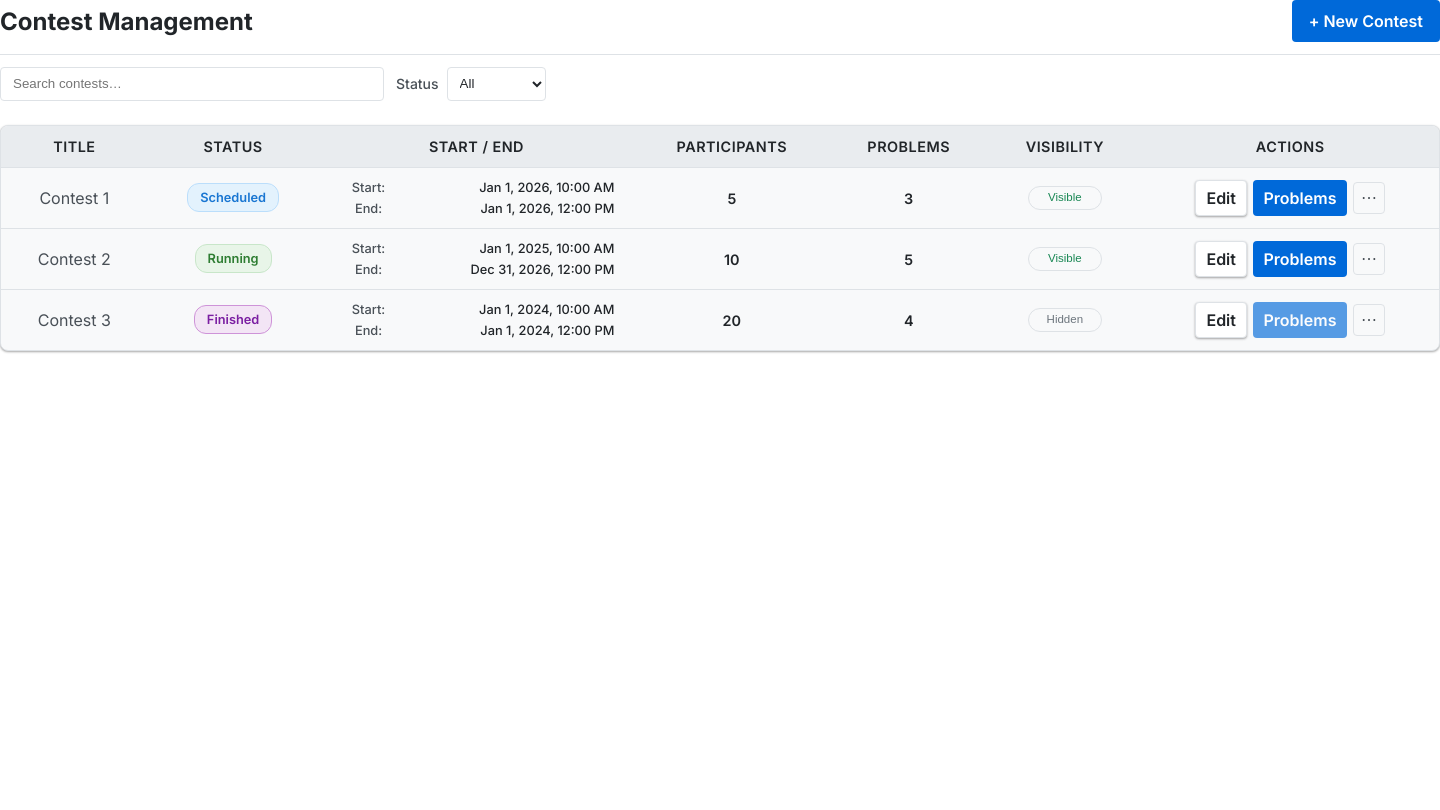
Scenario: ContestManagement Component › opens ContestModal for creating new contest
What coordinates should you click on to do the following:
click the button "+ New Contest"
I would click on:
 (1366, 21)
Its box is [1292,0,1439,42].
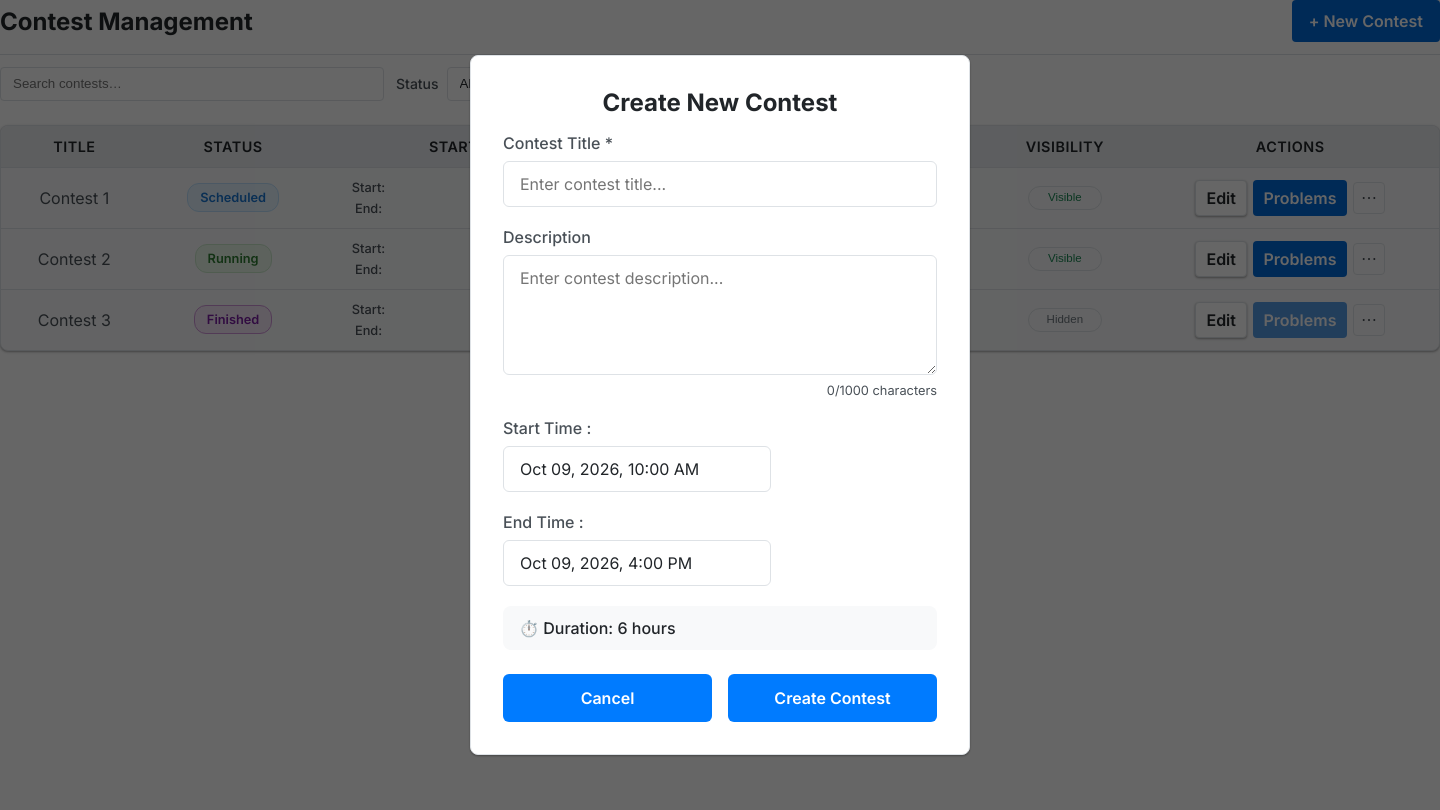
Expected: the button "Create Contest" is shown, [728,674,937,722]
